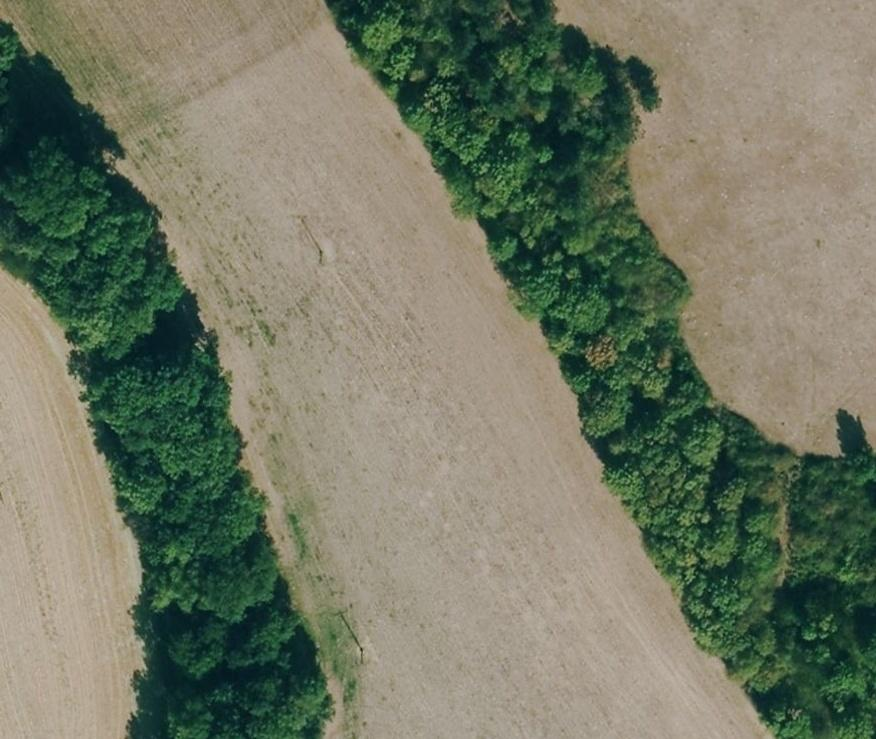field: (0, 2, 765, 737), (564, 3, 876, 449), (0, 269, 140, 735)
forest: (333, 2, 876, 736), (0, 24, 328, 737)
